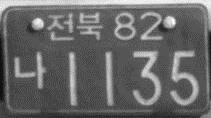1: (101, 47, 116, 109), (66, 50, 80, 108)
2: (140, 10, 163, 42)
3: (130, 49, 162, 106)
5: (169, 49, 204, 106)
8: (113, 10, 137, 42)
나: (13, 51, 47, 90)
전북_O: (46, 10, 103, 42)
